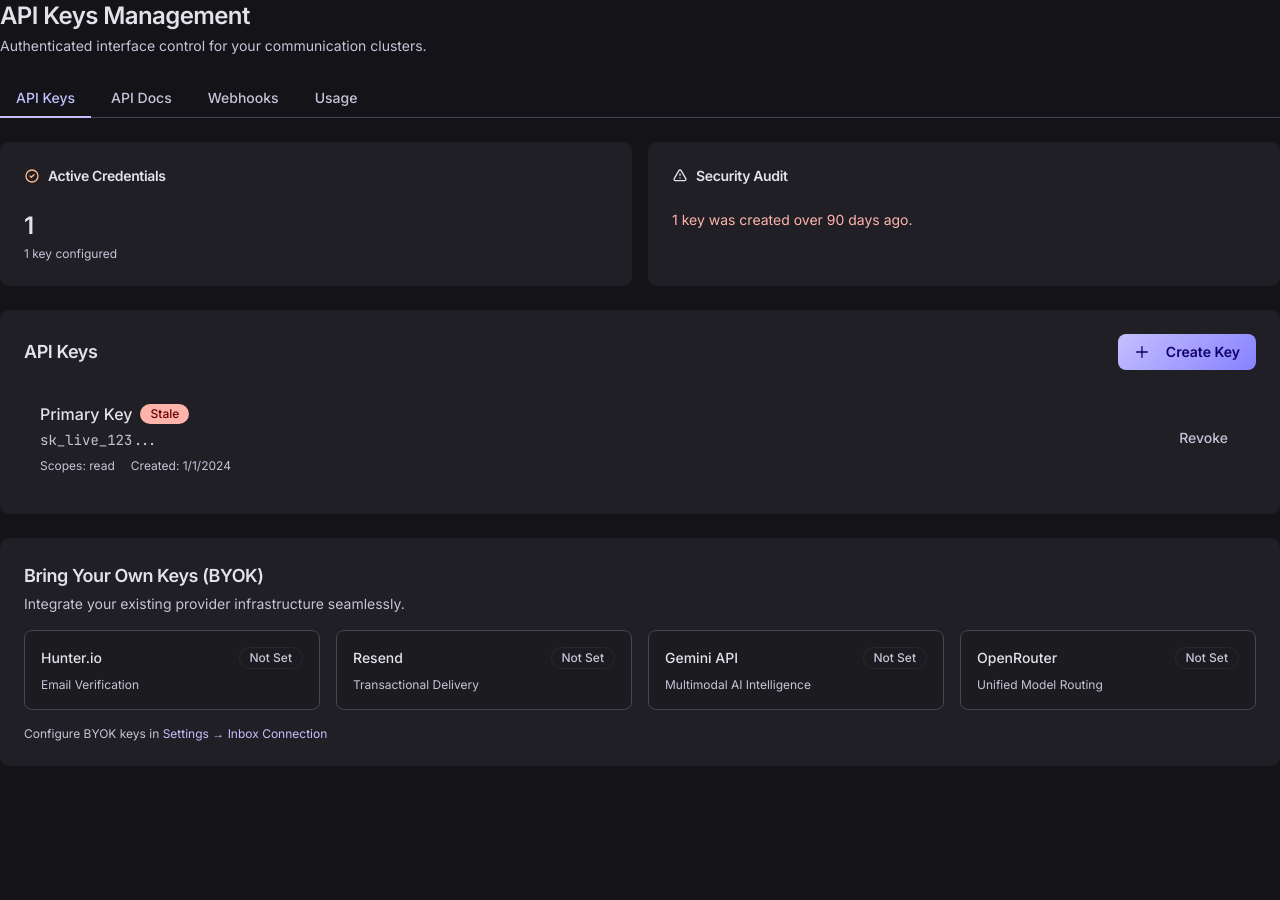
Test: DeveloperPage › revokes a key and removes it from the list
Expected: the text "Primary Key" is shown, [40,402,132,426]
Click the button "Revoke" at (1204, 438), box [1167,422,1240,454]
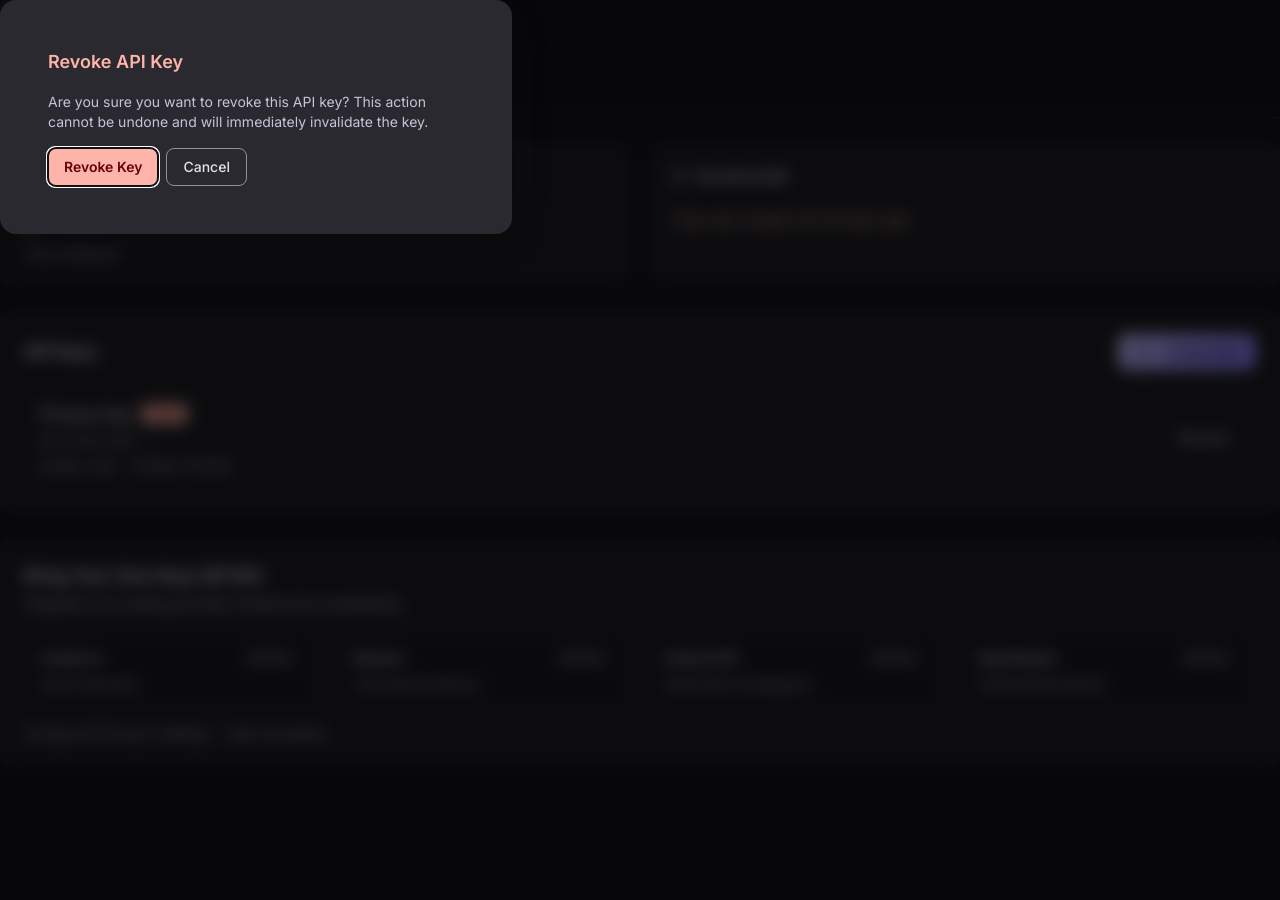
Expected: the heading "Revoke API Key" is shown, [48,51,183,72]
Click the button "Revoke Key" at (103, 167), box [48,148,158,186]
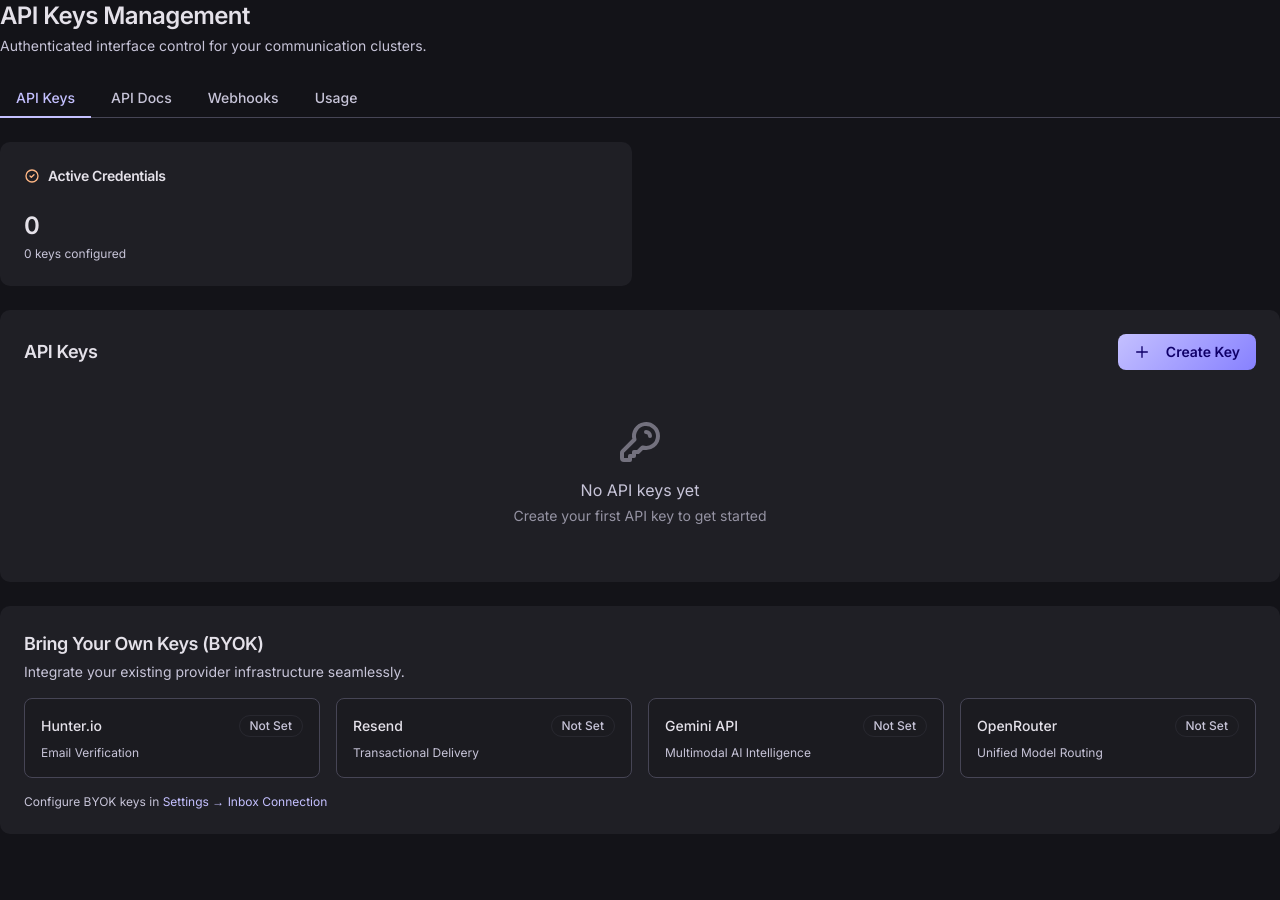
Expected: the text "Primary Key" is not shown
Expected: the text "No API keys yet" is shown, [581,480,699,500]
